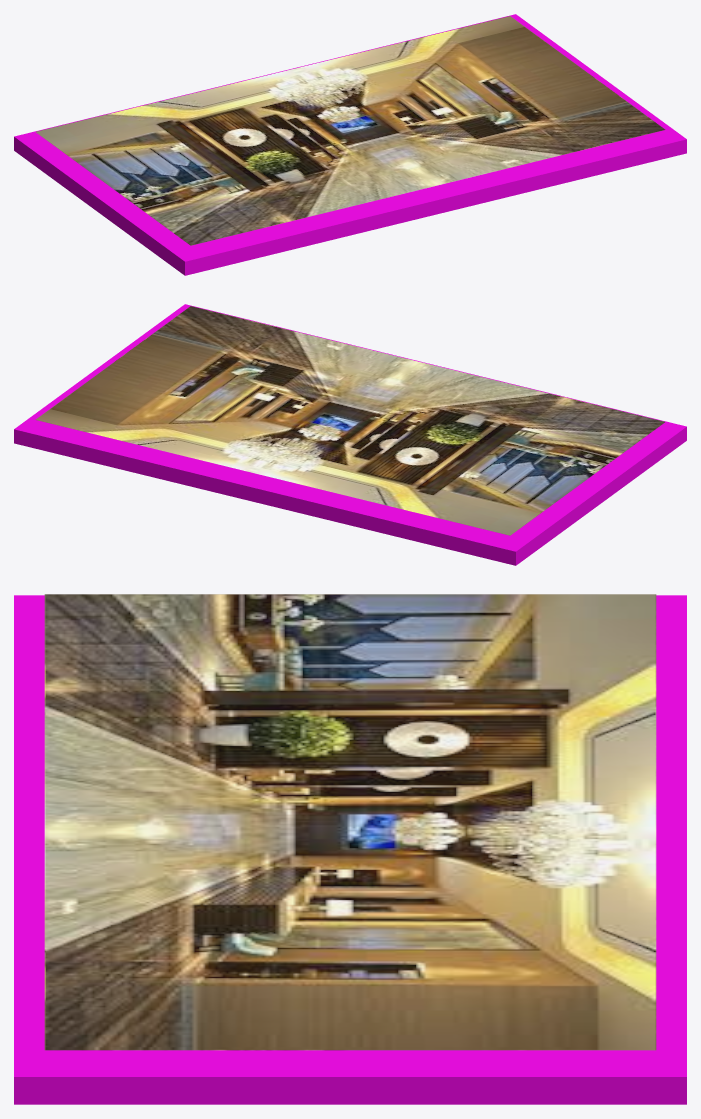
3 views of the same model, one above another, from view 1: azimuth 30°, elevation 25°; view 2: azimuth 150°, elevation 25°; view 3: azimuth 270°, elevation 25° (orthographic). The views are drawn at different scales.
Parts seen in each view (by area): view 1: PhotoPlane, PhotoBorder; view 2: PhotoPlane, PhotoBorder; view 3: PhotoPlane, PhotoBorder.
Boxes of the visible parts, x1=… form: PhotoPlane: x1=36, y1=16, x2=665, y2=245; PhotoBorder: x1=14, y1=14, x2=686, y2=275; PhotoPlane: x1=35, y1=306, x2=664, y2=535; PhotoBorder: x1=14, y1=304, x2=686, y2=565; PhotoPlane: x1=44, y1=594, x2=656, y2=1050; PhotoBorder: x1=14, y1=595, x2=686, y2=1104.
Size of the model in its own units: 18.63 by 0.75 by 11.
2 materials, 1 textured.
